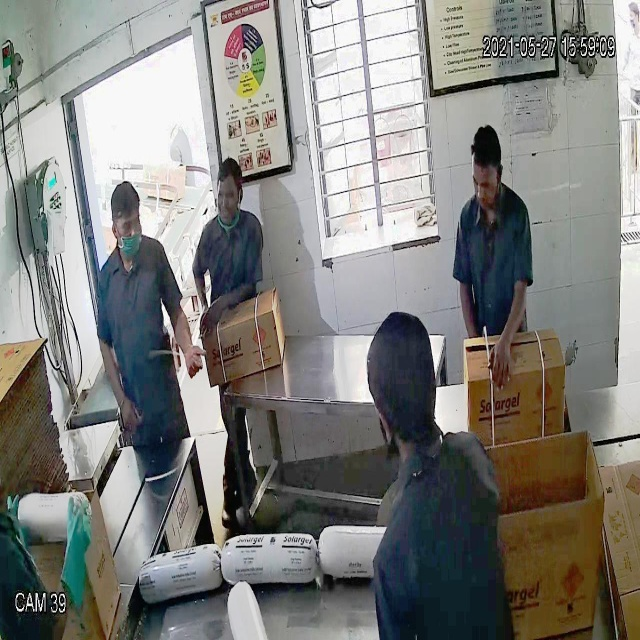Sin_gafas: (112, 208, 146, 238)
